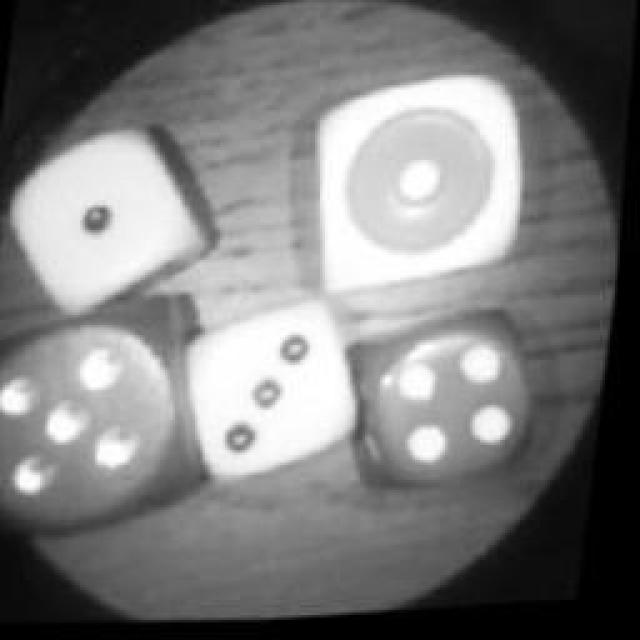dice_1: (0, 111, 238, 334)
dice_3: (173, 285, 385, 505)
dice_4: (330, 298, 568, 512)
dice_5: (0, 283, 240, 555), (292, 63, 548, 315)
